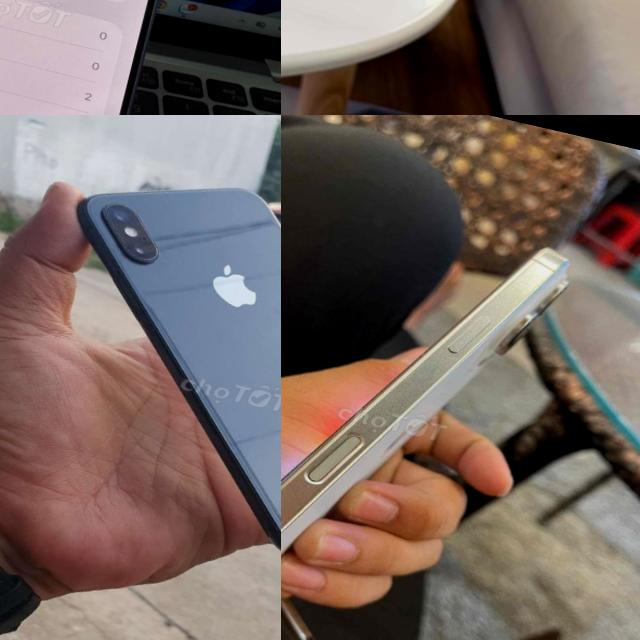gen_15: (281, 163, 604, 640)
gen_17: (0, 0, 213, 115)
gen_x_xs: (78, 189, 281, 549)
